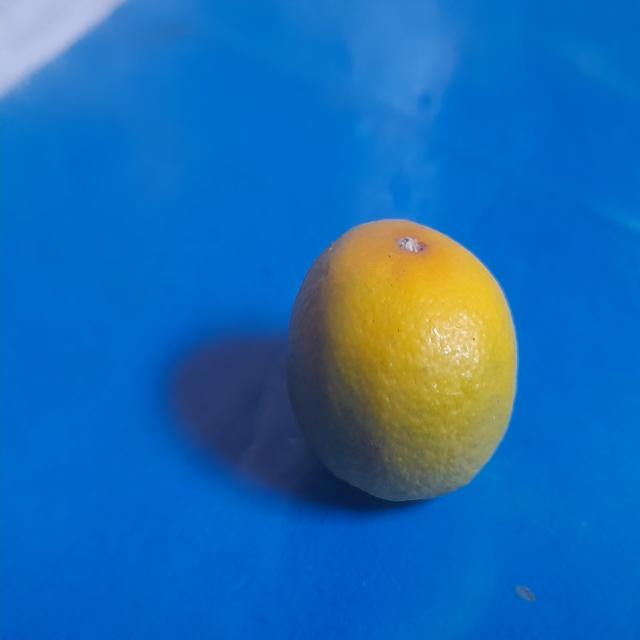greening: (282, 215, 524, 513)
